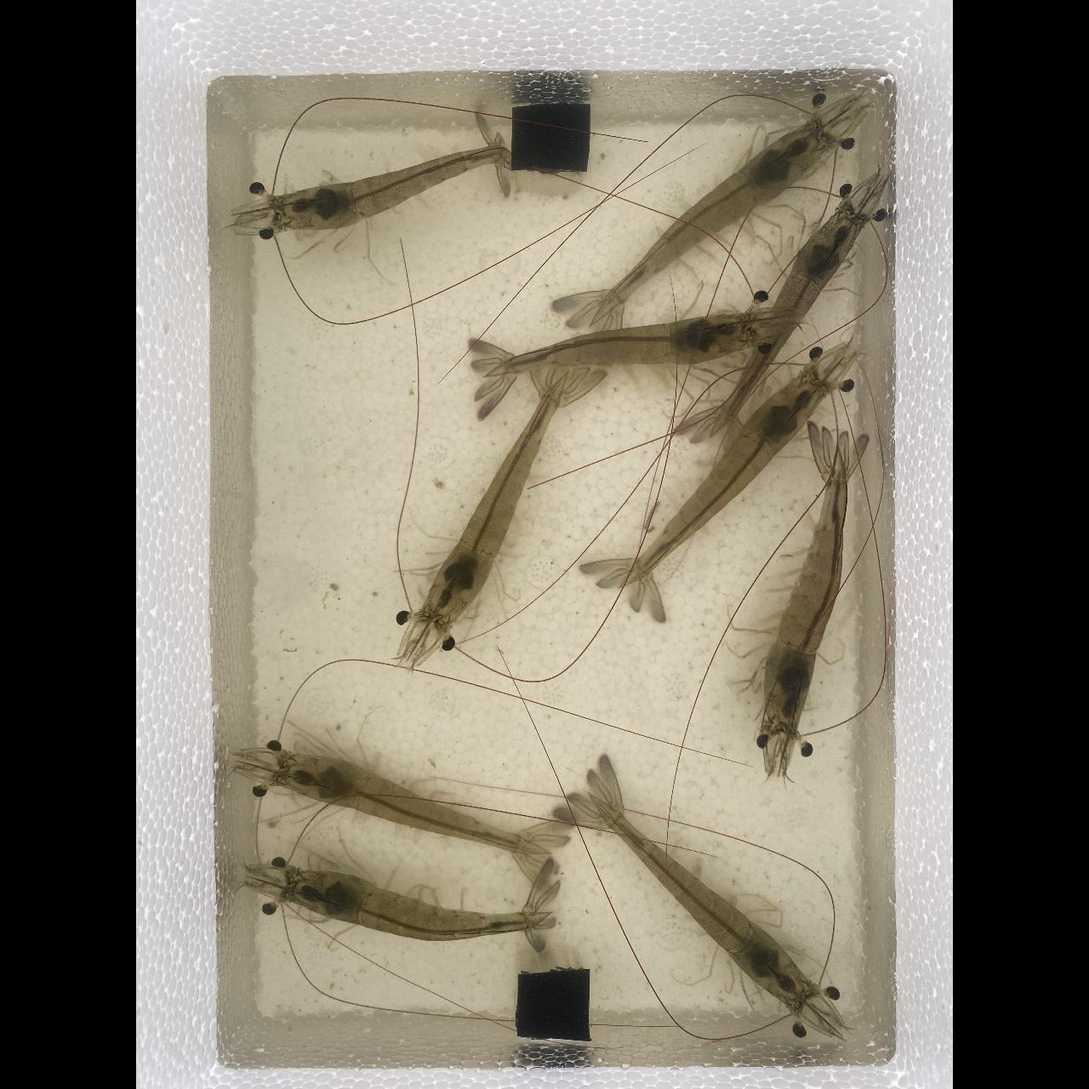box: (510, 100, 590, 172), (516, 968, 590, 1040)
top_shrimp: (592, 798, 808, 1006), (592, 124, 827, 313), (621, 374, 822, 584), (425, 381, 563, 623), (715, 209, 861, 432), (279, 757, 543, 852), (764, 446, 849, 732), (277, 146, 507, 230), (286, 871, 544, 938), (483, 315, 755, 373)
